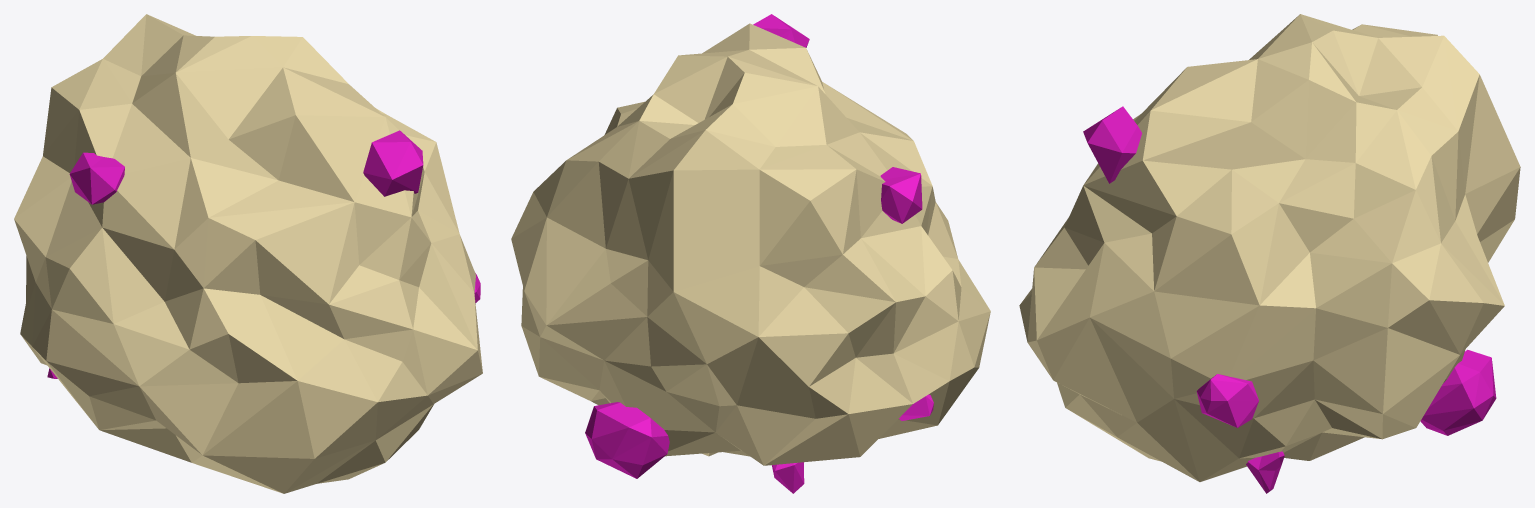
File: CrystalOre (23).fbx
3 views of the same model, side by side, from view 1: azimuth 30°, elevation 25°; view 2: azimuth 150°, elevation 25°; view 3: azimuth 270°, elevation 25° (orthographic). The views are drawn at different scales.
Visible parts, largest first — view 1: Asteroid243; view 2: Asteroid243; view 3: Asteroid243.
Boxes of the visible parts, bbox=[...] form: Asteroid243: bbox=[14, 14, 482, 493]; Asteroid243: bbox=[511, 14, 990, 493]; Asteroid243: bbox=[1019, 14, 1520, 493].
Bounding box in the file's own units: 429 × 396 × 440.
